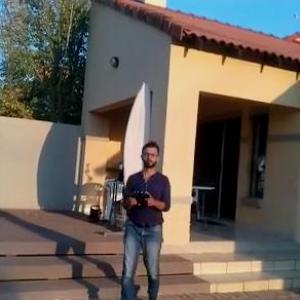follow: (114, 135, 177, 299)
